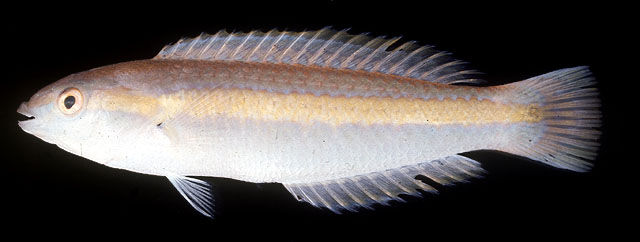fish: (17, 25, 601, 219)
